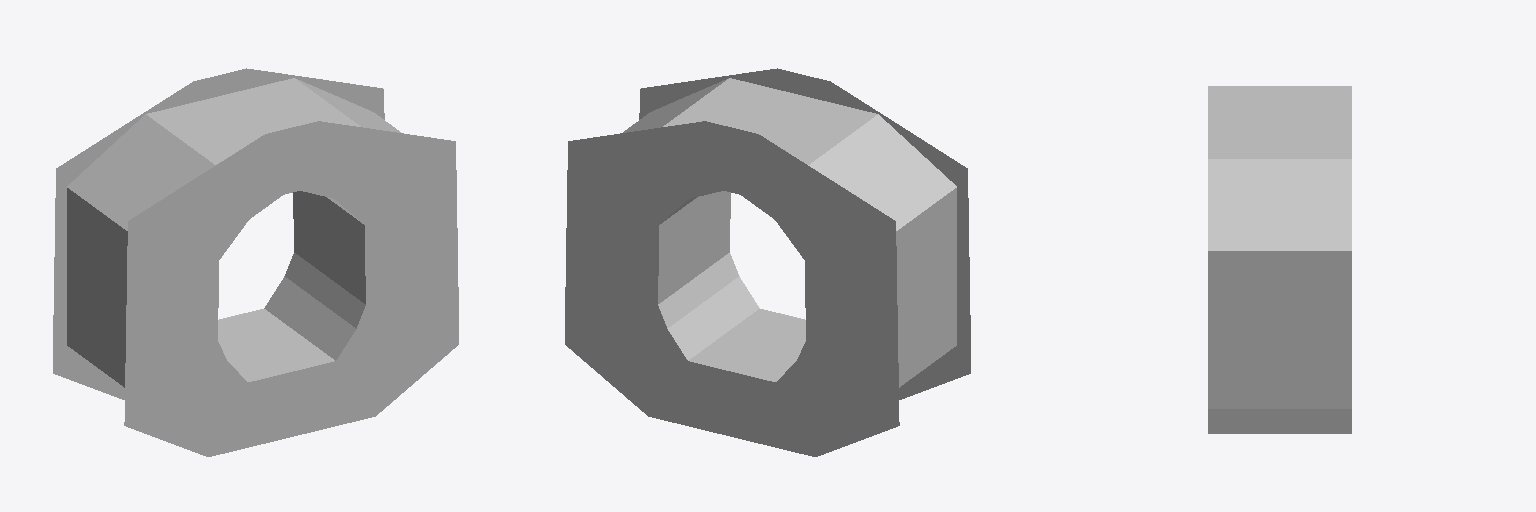
File: underground_end.obj
3 views of the same model, side by side, from view 1: azimuth 30°, elevation 25°; view 2: azimuth 150°, elevation 25°; view 3: azimuth 270°, elevation 25° (orthographic).
Visible parts, largest first — view 1: tube, cuboid_selection; view 2: tube, cuboid_selection; view 3: cuboid_selection.
Boxes of the visible parts, x1,y1,x2,y2 form: tube: [53, 68, 458, 456]; cuboid_selection: [67, 78, 414, 441]; tube: [565, 68, 970, 456]; cuboid_selection: [620, 78, 956, 441]; cuboid_selection: [1208, 86, 1351, 433].
Size of the model in its own units: 0.6724 by 0.5934 by 0.25.